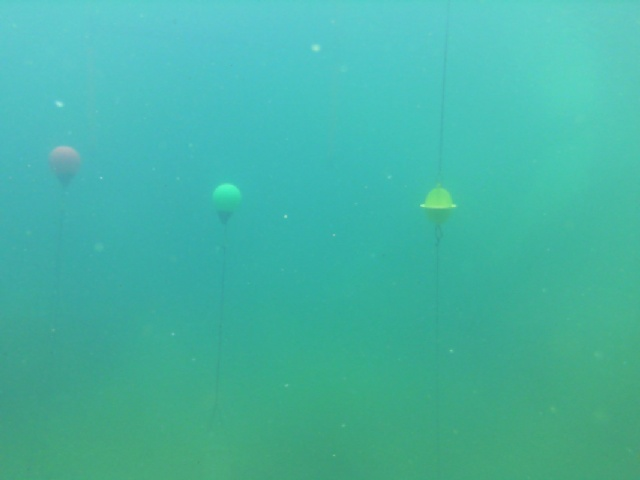buoy_green: (210, 182, 241, 225)
buoy_red: (48, 144, 82, 196)
buoy_yellow: (419, 185, 457, 225)
